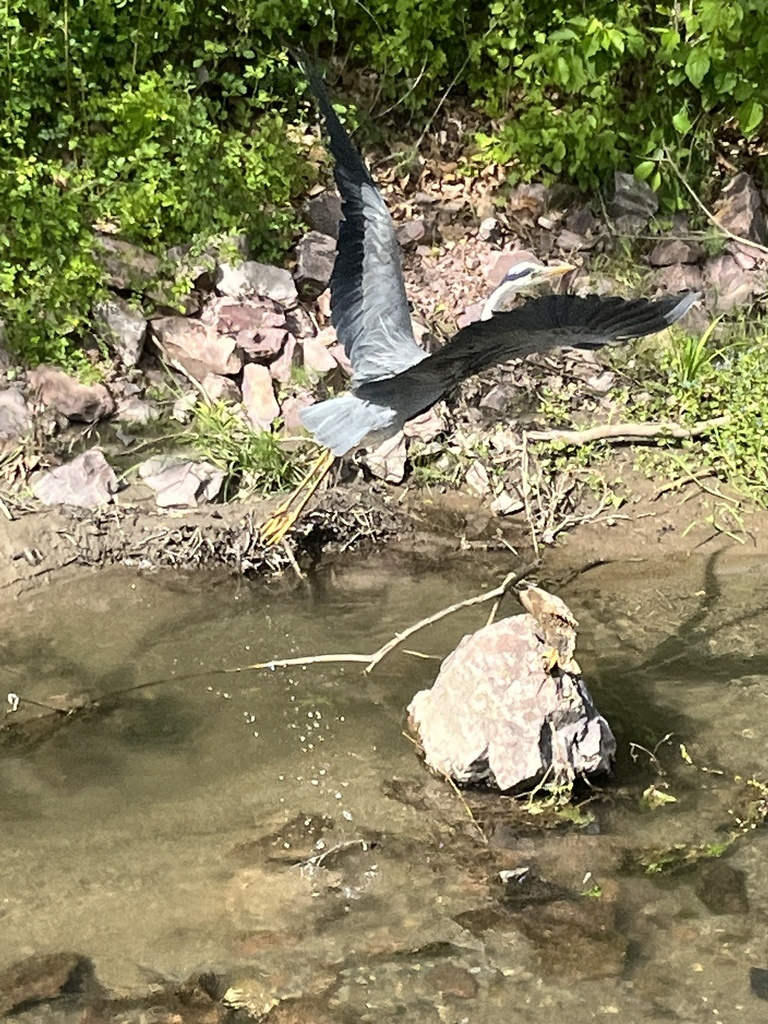heron: (257, 34, 704, 546)
